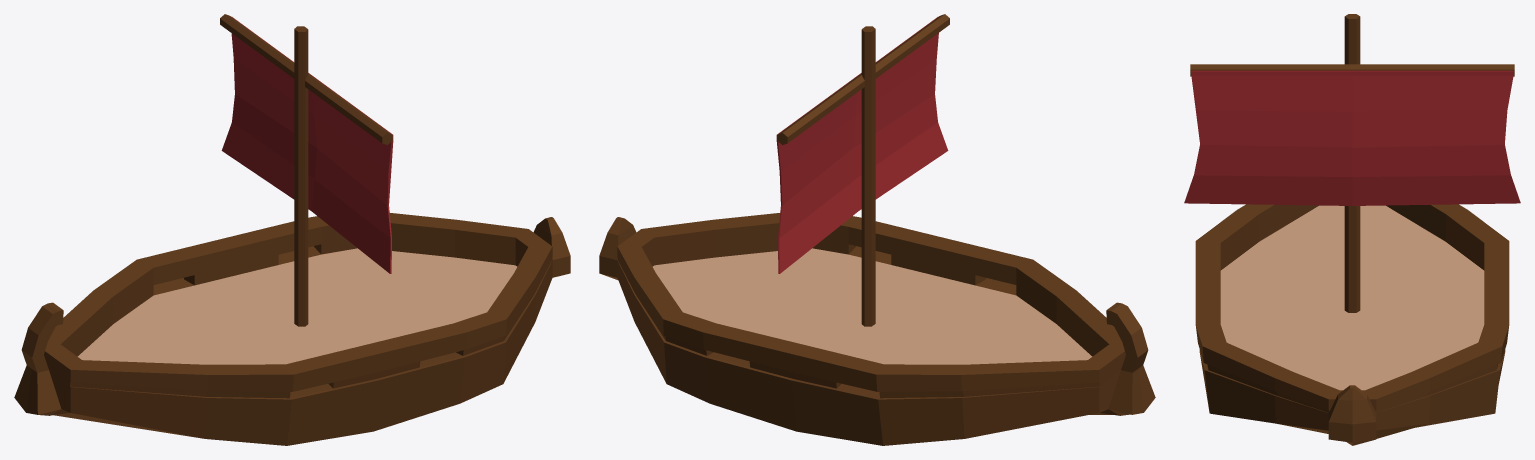
Rendered from boat.fbx.
3 renders of one model, left to right at view 1: azimuth 30°, elevation 25°; view 2: azimuth 150°, elevation 25°; view 3: azimuth 270°, elevation 25°, orthographic.
Visible parts, largest first — view 1: Cube; view 2: Cube; view 3: Cube.
Boxes of the visible parts, left/top/right/bottom form: Cube: left=14, top=14, right=570, bottom=445; Cube: left=599, top=14, right=1155, bottom=445; Cube: left=1184, top=14, right=1520, bottom=445.
Bounding box in the file's own units: 2477 × 1608 × 1345.
